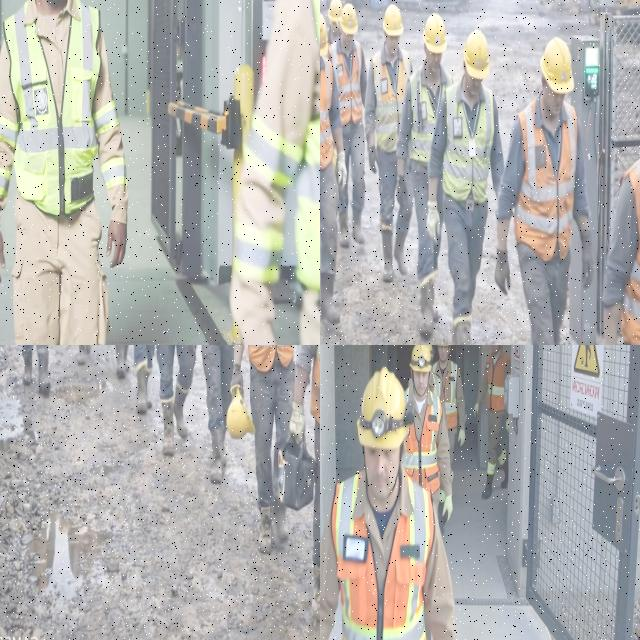Vest: (3, 0, 99, 215), (332, 473, 433, 639), (514, 98, 576, 260), (442, 82, 493, 203), (408, 66, 452, 164), (295, 117, 319, 290), (371, 50, 411, 152), (402, 393, 441, 493), (620, 159, 639, 344), (330, 40, 362, 125), (432, 360, 456, 429), (320, 59, 332, 169), (486, 352, 508, 411), (248, 345, 293, 371), (310, 345, 319, 425)
Worker: (0, 0, 127, 344), (320, 368, 456, 639), (230, 0, 319, 344), (495, 37, 593, 344), (426, 30, 503, 344), (396, 13, 452, 339), (364, 4, 412, 282), (247, 345, 294, 553), (328, 3, 366, 247), (403, 345, 452, 531), (290, 345, 319, 621), (320, 14, 345, 324), (601, 159, 639, 344), (474, 345, 510, 499), (201, 345, 233, 483), (156, 345, 195, 456), (432, 345, 465, 465), (133, 345, 153, 414), (327, 0, 342, 46), (36, 345, 49, 396), (115, 345, 128, 378), (76, 345, 90, 365)
helmet: (357, 368, 410, 448), (540, 37, 573, 93), (226, 386, 254, 439), (463, 30, 488, 79), (423, 12, 447, 54), (383, 4, 402, 36), (410, 345, 430, 372), (340, 3, 357, 34), (327, 0, 341, 23), (320, 14, 327, 57), (437, 345, 449, 346)
